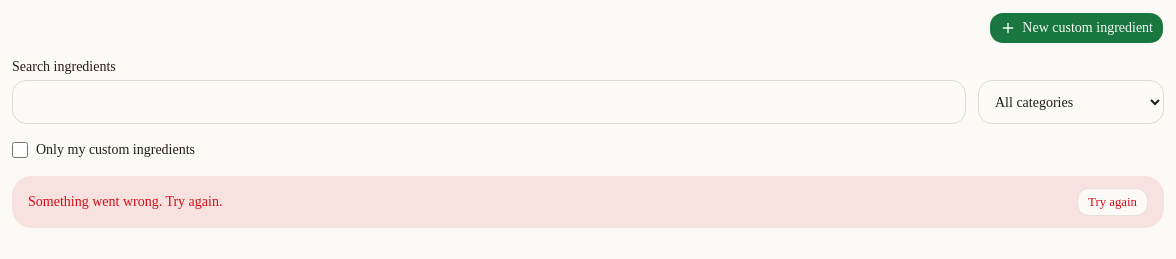
Test: CustomIngredientsPage listing › offers a retry when the list cannot load
Expected: the text "Something went wrong. Try again." is shown, [28,194,222,209]
Click the button "Try again": (1112, 202) [1077,188,1148,216]
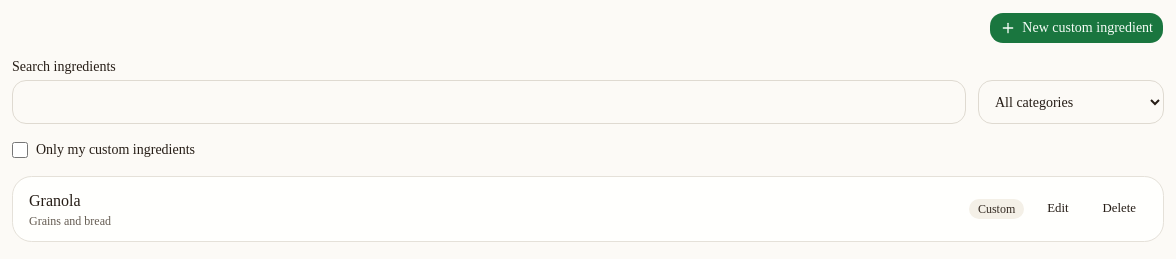
Expected: the text "Granola" is shown, [29,192,80,209]
